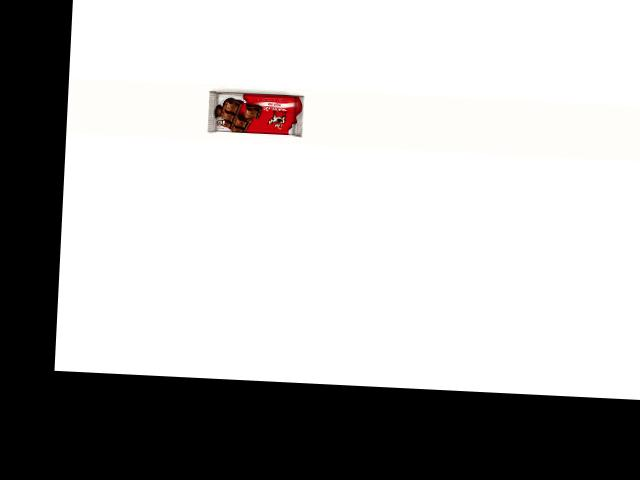chocolate: (205, 83, 306, 140)
